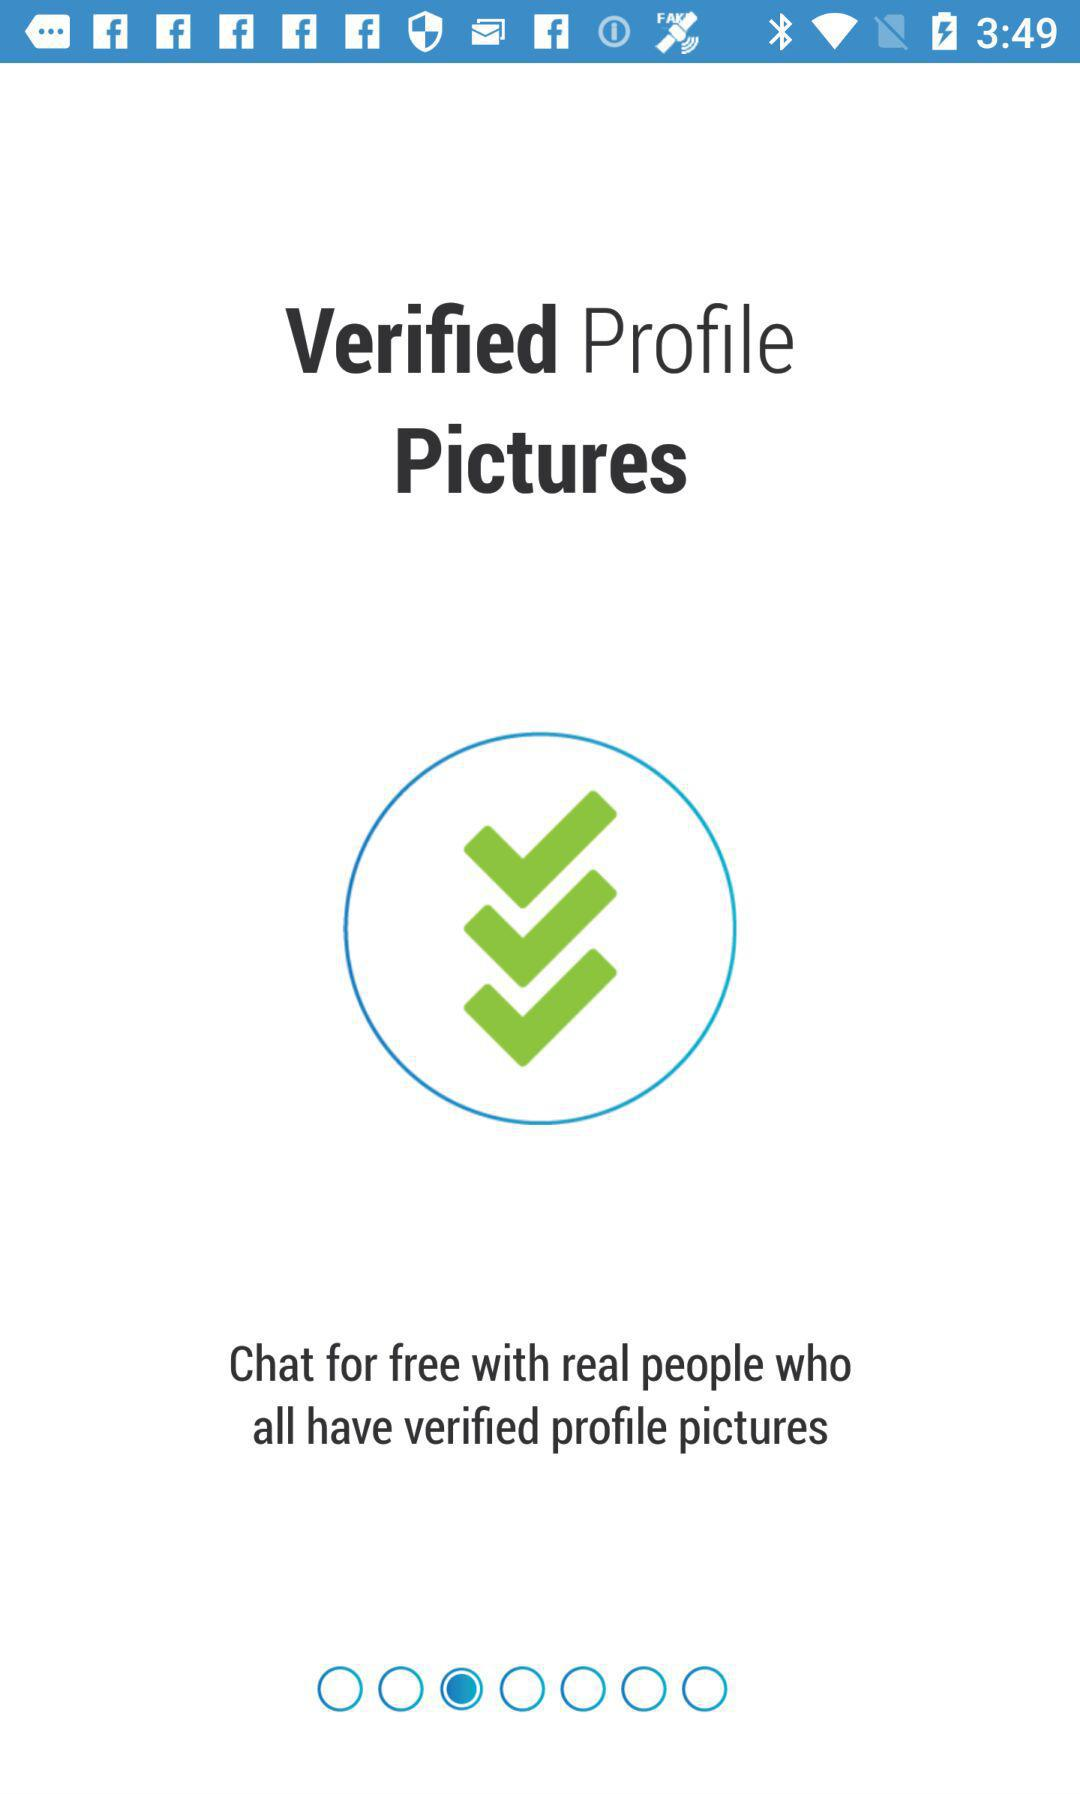Image: (343, 730, 738, 1126)
PageIndicator: (316, 1665, 729, 1713)
Text: (284, 302, 794, 496), (231, 1342, 852, 1454)
UpperTaskBar: (1, 1, 1080, 64)
